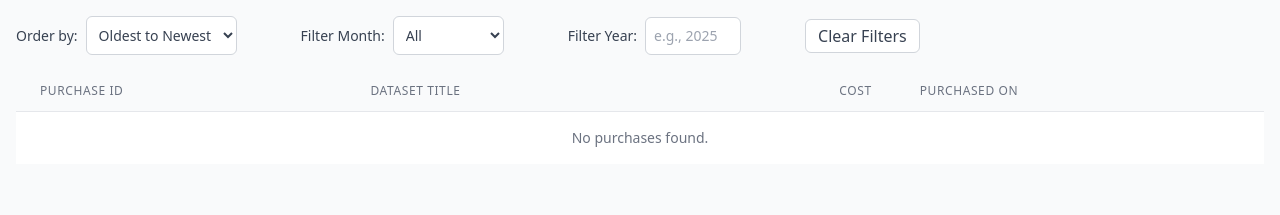
Test: PurchaseHistoryPage › clears filters when Clear Filters button is clicked
Note: Set filters.
Step 1. Select "March" in the dropdown labelled "Filter Month:" → (448,36), box [393,16,504,55]
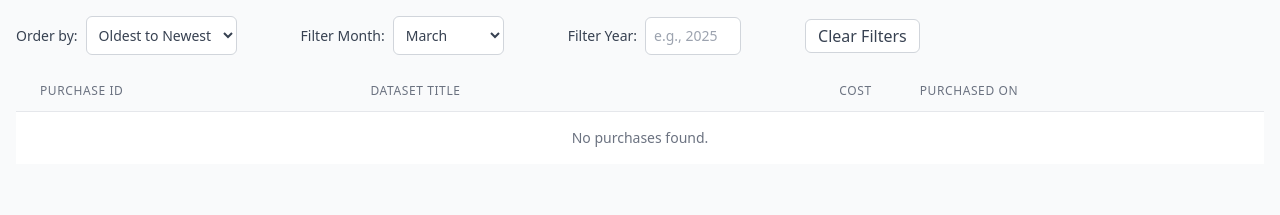
Step 2. Type "2022" into the number field labelled "Filter Year:" → (693,36), box [645,16,741,54]
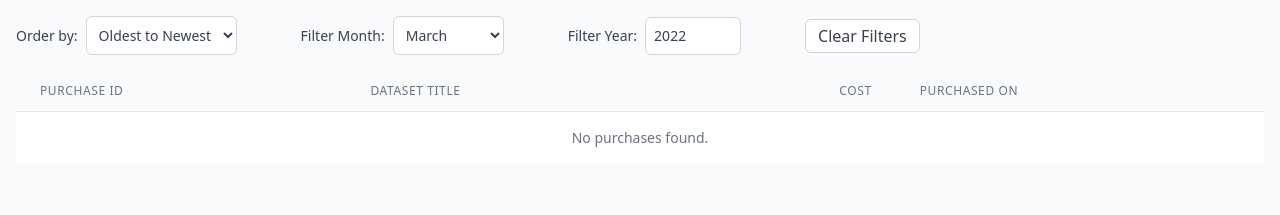
Note: Click clear filters
Step 3. Click the button "Clear Filters" → (862,36), box [805,18,920,52]
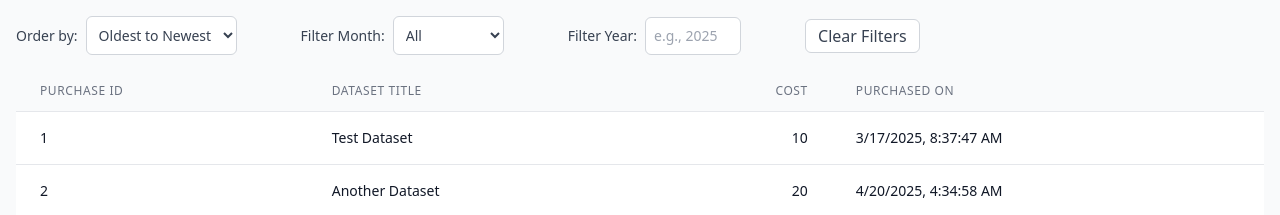
expect the number field labelled "Filter Year:" is empty: met, box [645,16,741,54]
